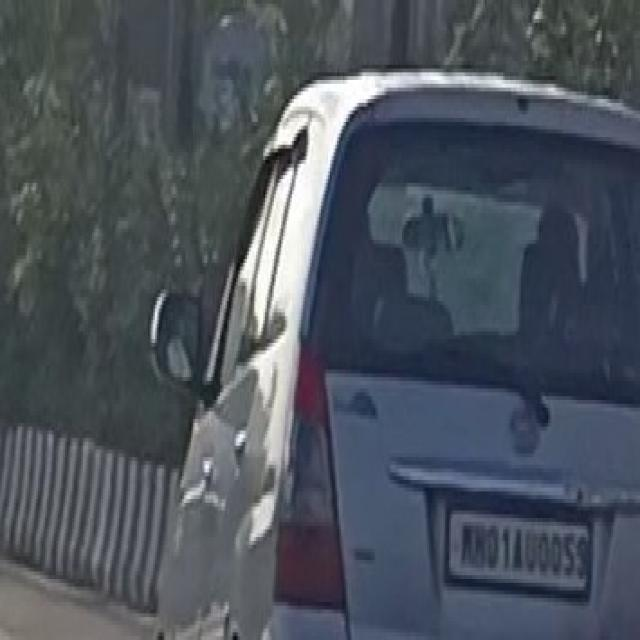license-plate: (447, 503, 588, 590)
